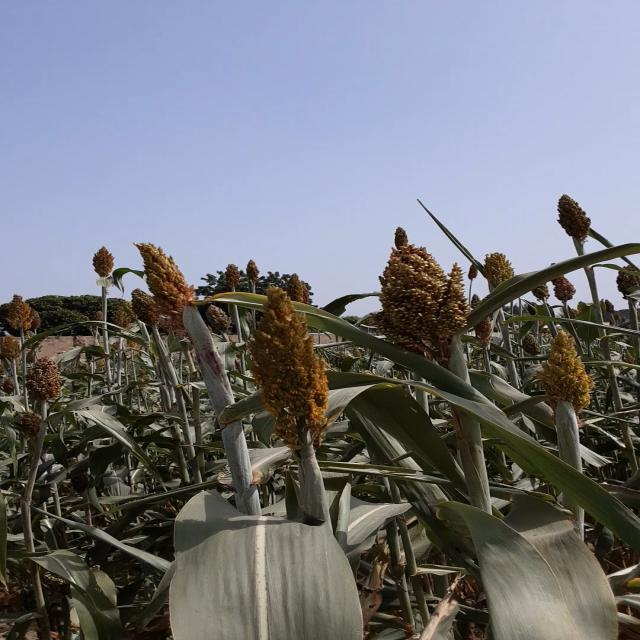UnripeSorghum: (220, 267, 368, 459)
